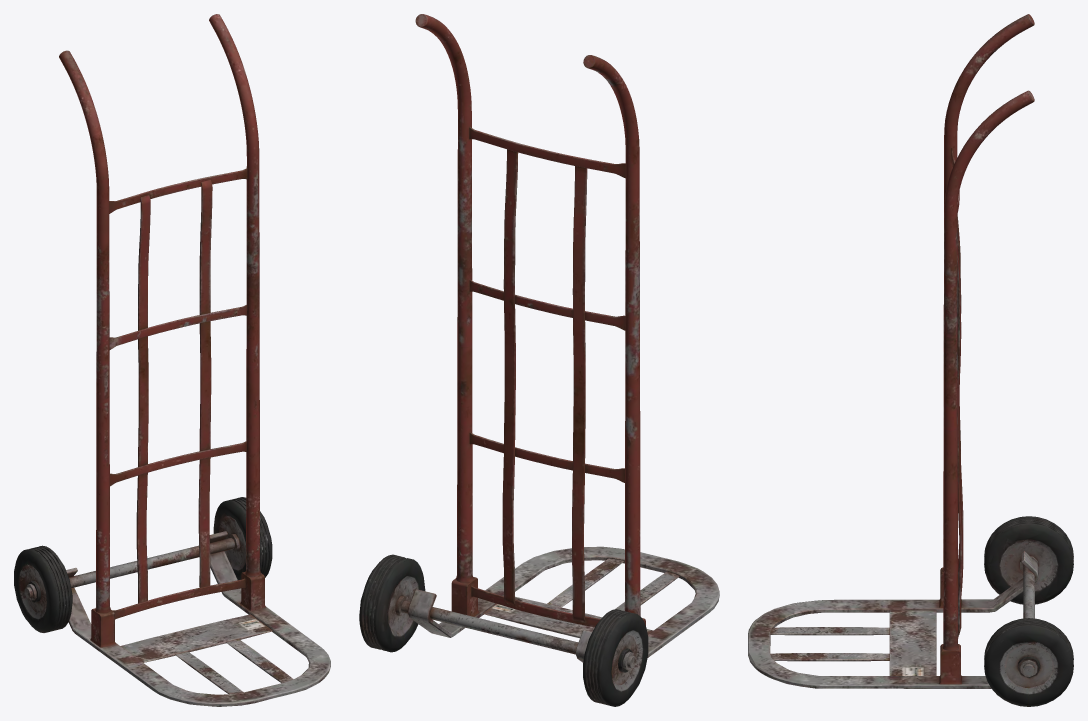
File: hand_truck.glb
3 renders of one model, left to right at view 1: azimuth 30°, elevation 25°; view 2: azimuth 150°, elevation 25°; view 3: azimuth 270°, elevation 25°, orthographic. The views are drawn at different scales.
Parts seen in each view (by area): view 1: hand_truck; view 2: hand_truck; view 3: hand_truck.
Boxes of the visible parts, x1,y1,x2,y2 form: hand_truck: [14, 14, 330, 706]; hand_truck: [359, 14, 719, 706]; hand_truck: [748, 14, 1073, 706].
Size of the model in its own units: 0.5932 by 1.4 by 0.6923.
1 material, 1 textured.
